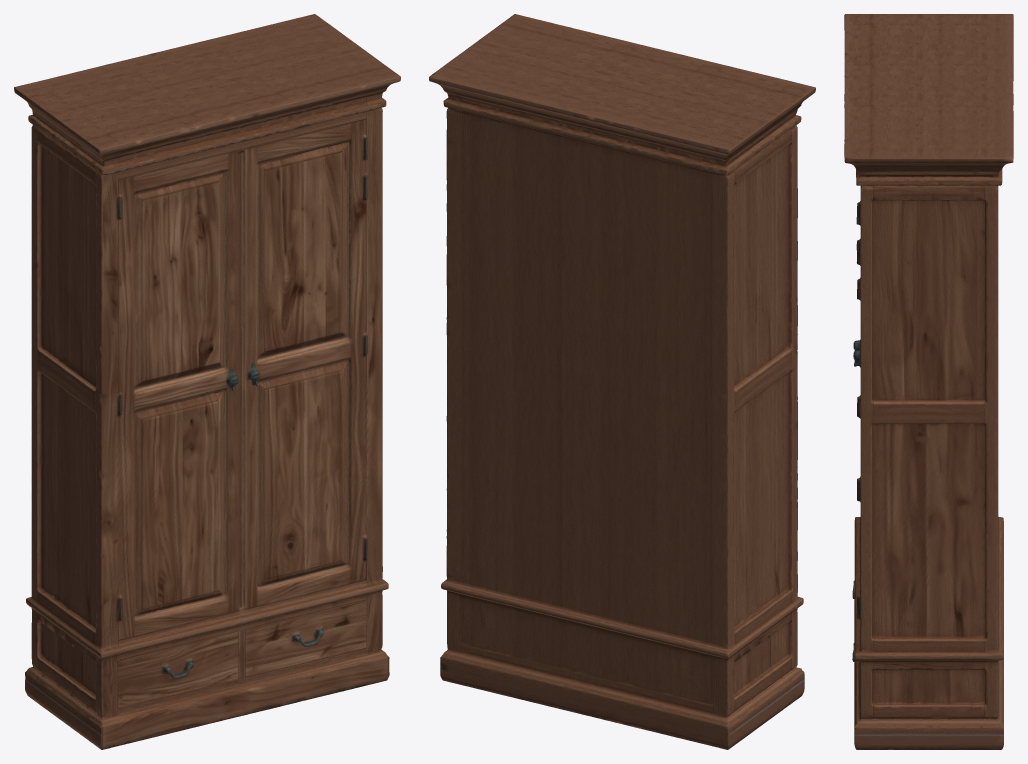
The model's file is Walnut_Wardrobe.glb.
The picture shows the model from 3 angles, left to right: view 1: azimuth 30°, elevation 25°; view 2: azimuth 150°, elevation 25°; view 3: azimuth 270°, elevation 25°; orthographic projection.
Size of the model in its own units: 0.9889 by 1.9 by 0.4888.
1 material, 1 textured.
